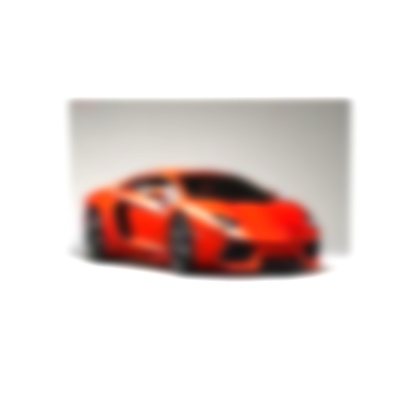Vehicle: (80, 162, 321, 281)
